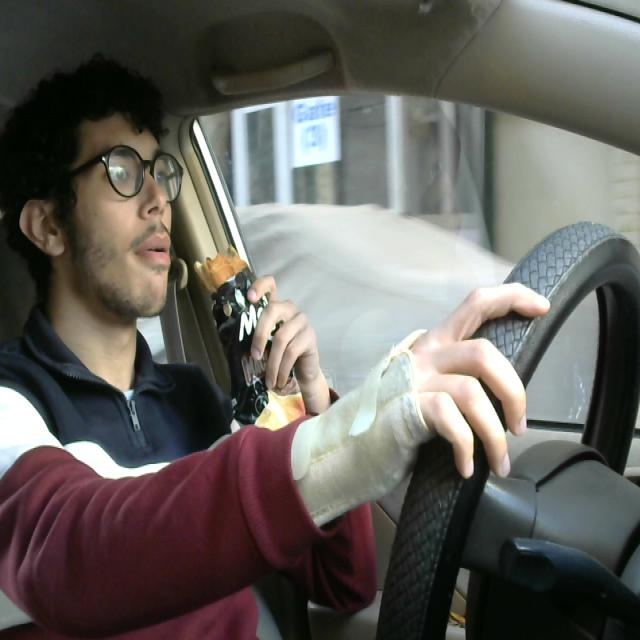eating: (183, 245, 319, 490)
